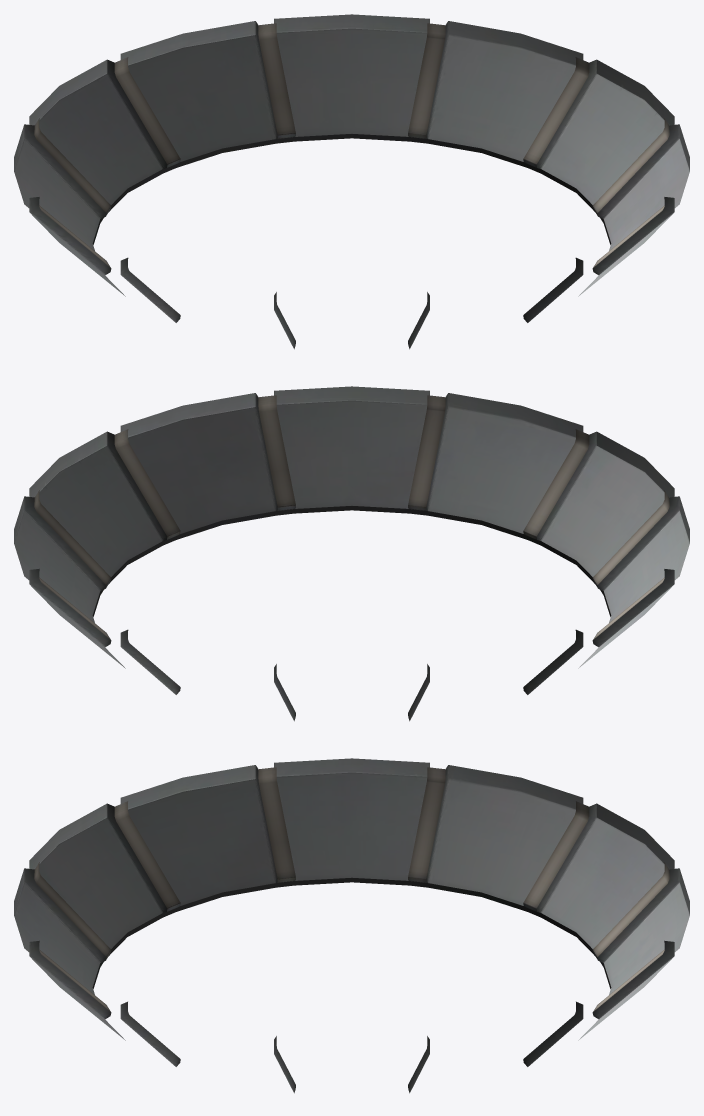
The picture shows the model from 3 angles, top to bottom: view 1: azimuth 30°, elevation 25°; view 2: azimuth 150°, elevation 25°; view 3: azimuth 270°, elevation 25°; orthographic projection.
Parts seen in each view (by area): view 1: body0_model0_lod0_mesh0; view 2: body0_model0_lod0_mesh0; view 3: body0_model0_lod0_mesh0.
Part boxes in pixels (left/top/right/bottom): body0_model0_lod0_mesh0: left=14, top=14, right=689, bottom=349; body0_model0_lod0_mesh0: left=14, top=386, right=689, bottom=721; body0_model0_lod0_mesh0: left=14, top=758, right=689, bottom=1093.
Bounding box in the file's own units: 266 × 39.43 × 266.
1 material, 1 textured.
